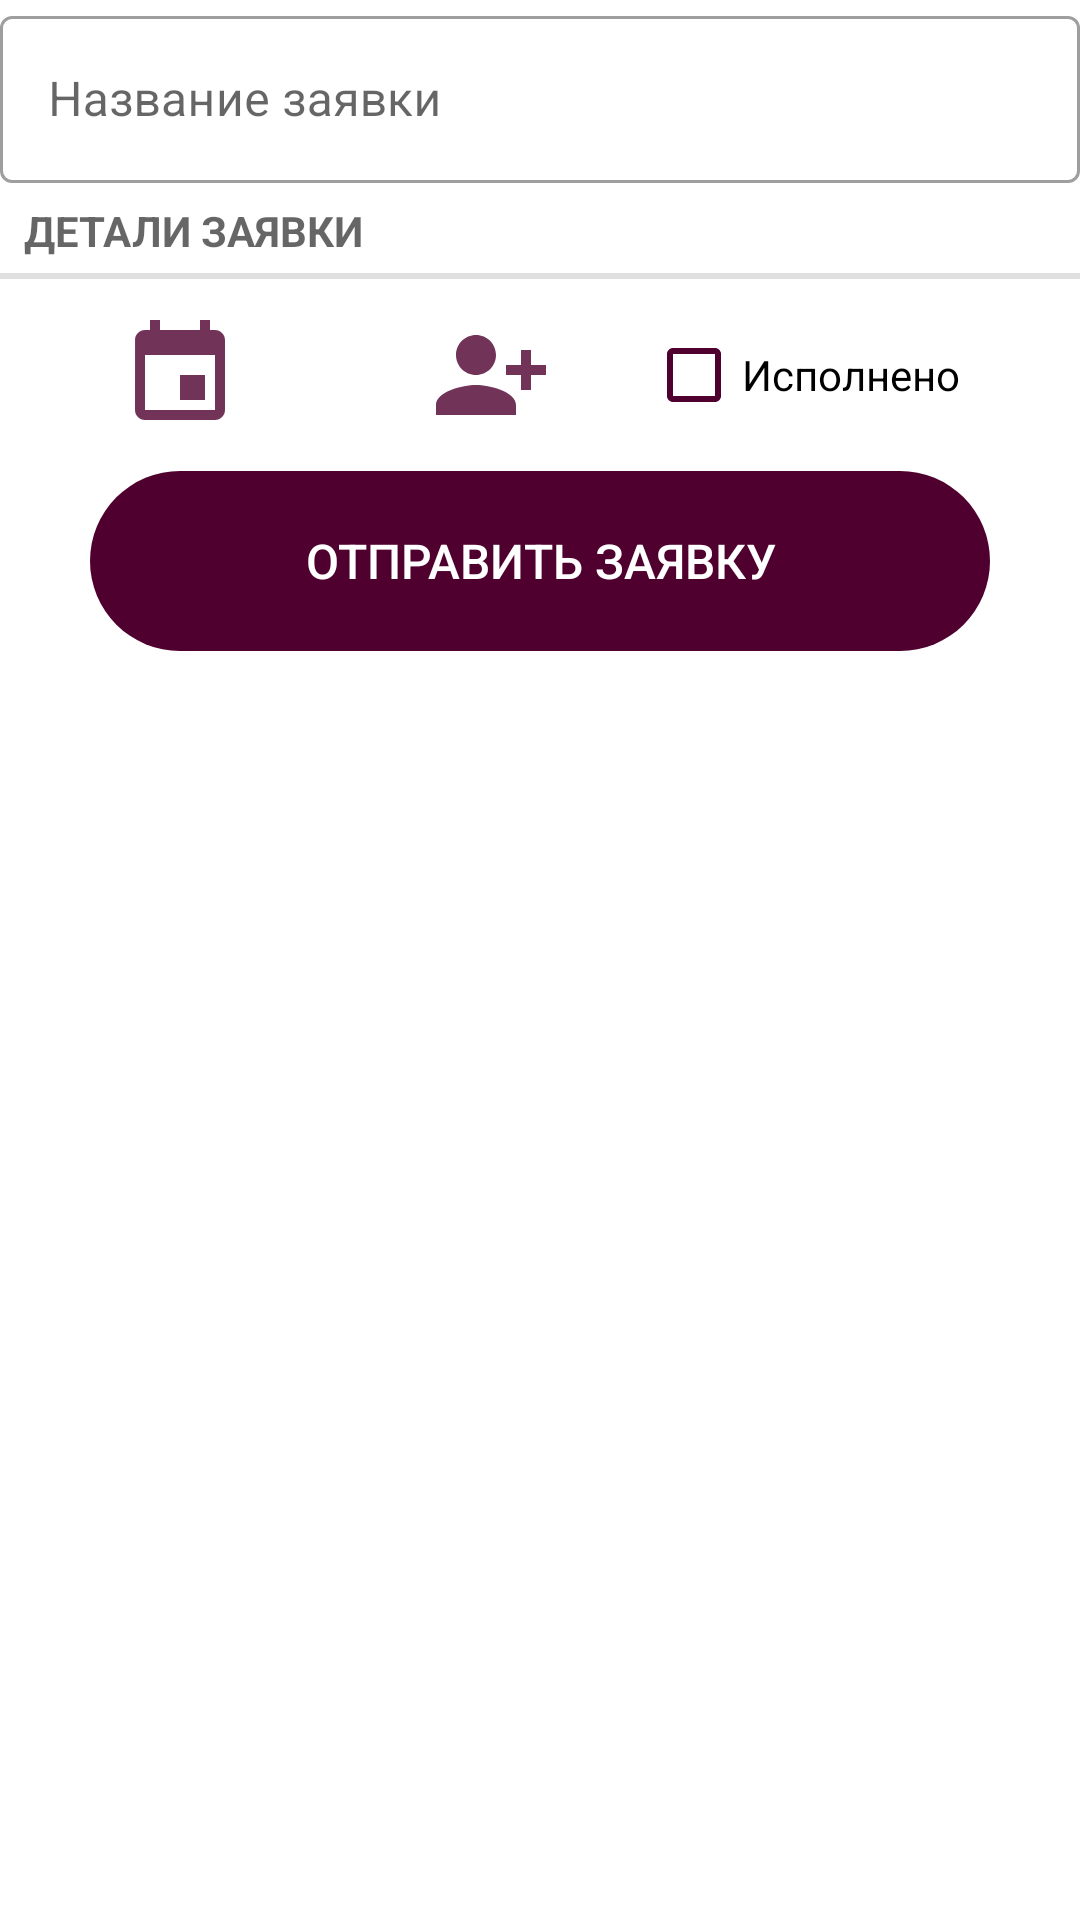

Point at icon controls on the screen. Image size 1080x1920, points as (x=x, y=y).
calendar: (x=180, y=370)
person: (x=491, y=375)
